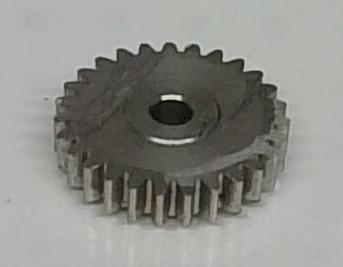scratch: (77, 54, 159, 135), (225, 82, 252, 123), (199, 119, 211, 138)
